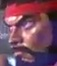ryu: (3, 0, 54, 65)
